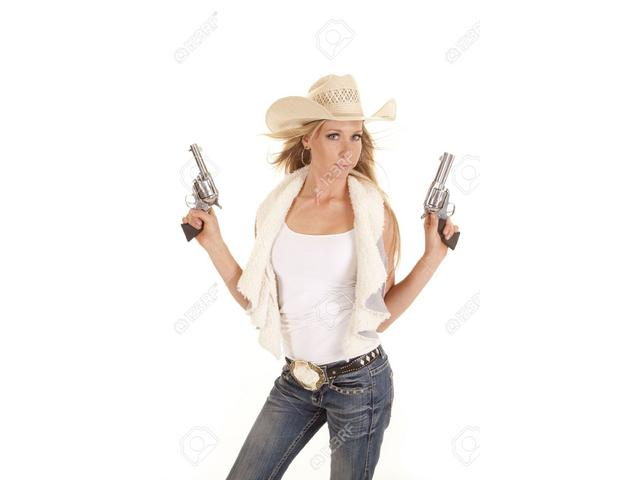pistol: (420, 149, 463, 253), (181, 144, 224, 243)
